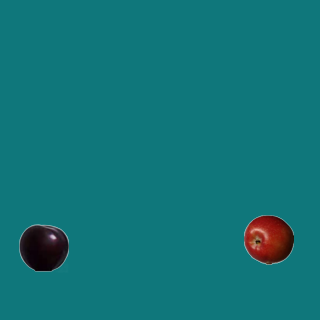Apple Braeburn: (243, 214, 293, 264)
Cherry Wax Black: (18, 222, 68, 272)
